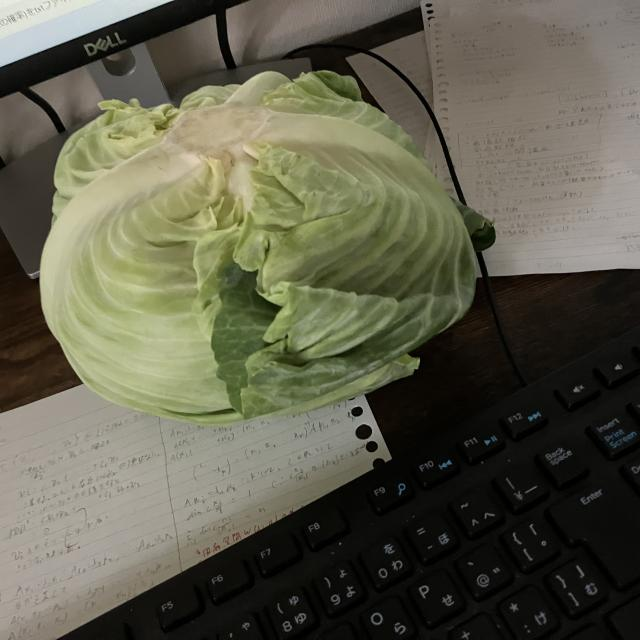cabbage: (36, 68, 484, 430)
